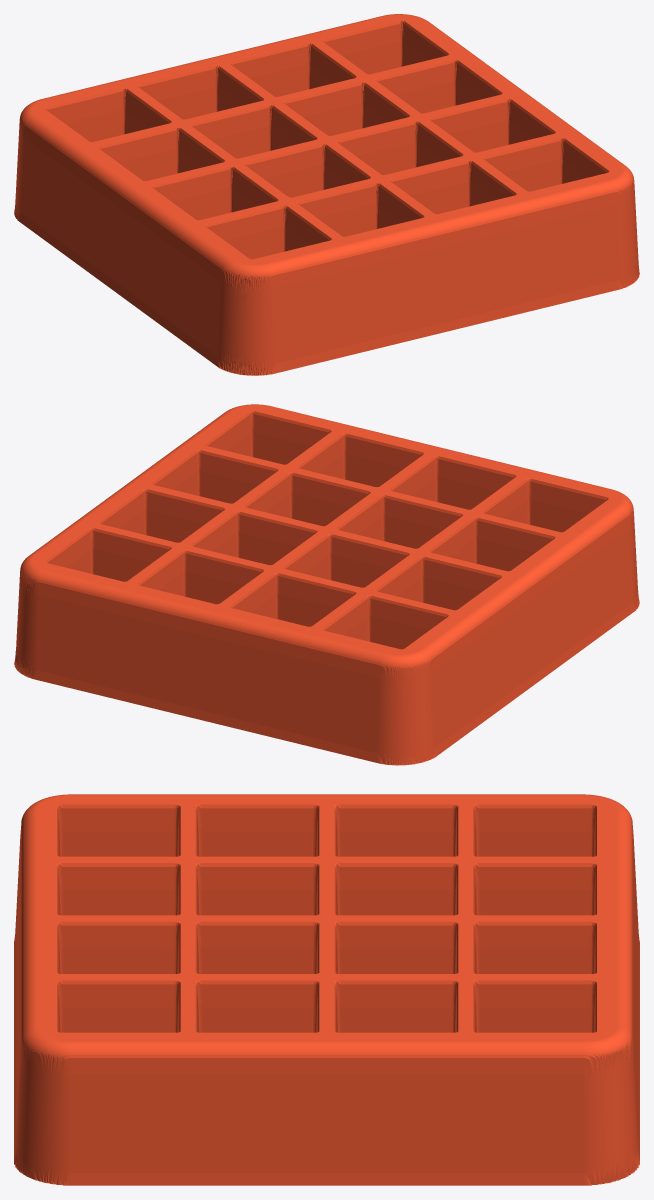
The model's file is mold.glb.
3 renders of one model, top to bottom at view 1: azimuth 30°, elevation 25°; view 2: azimuth 150°, elevation 25°; view 3: azimuth 270°, elevation 25°, orthographic. The views are drawn at different scales.
Parts seen in each view (by area): view 1: geometry_0; view 2: geometry_0; view 3: geometry_0.
Boxes of the visible parts, x1=… form: geometry_0: x1=14, y1=14, x2=639, y2=375; geometry_0: x1=14, y1=404, x2=639, y2=765; geometry_0: x1=14, y1=794, x2=639, y2=1185.
Size of the model in its own units: 0.0992 by 0.0236 by 0.0992.
